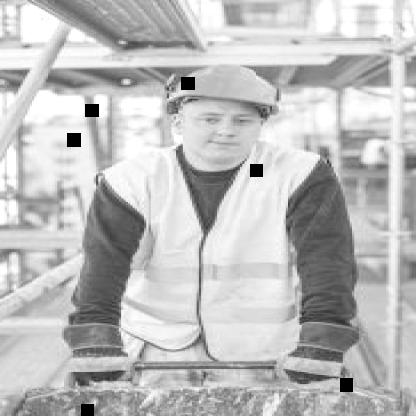helmet: (155, 52, 292, 168)
